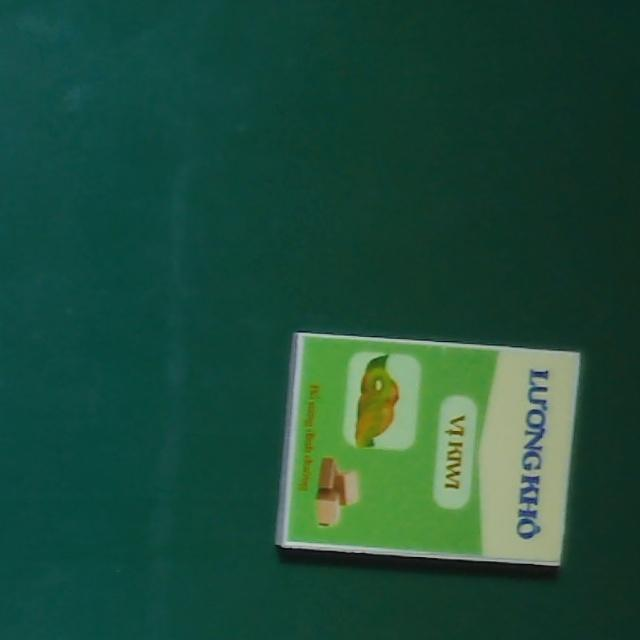kiwi: (275, 333, 580, 567)
